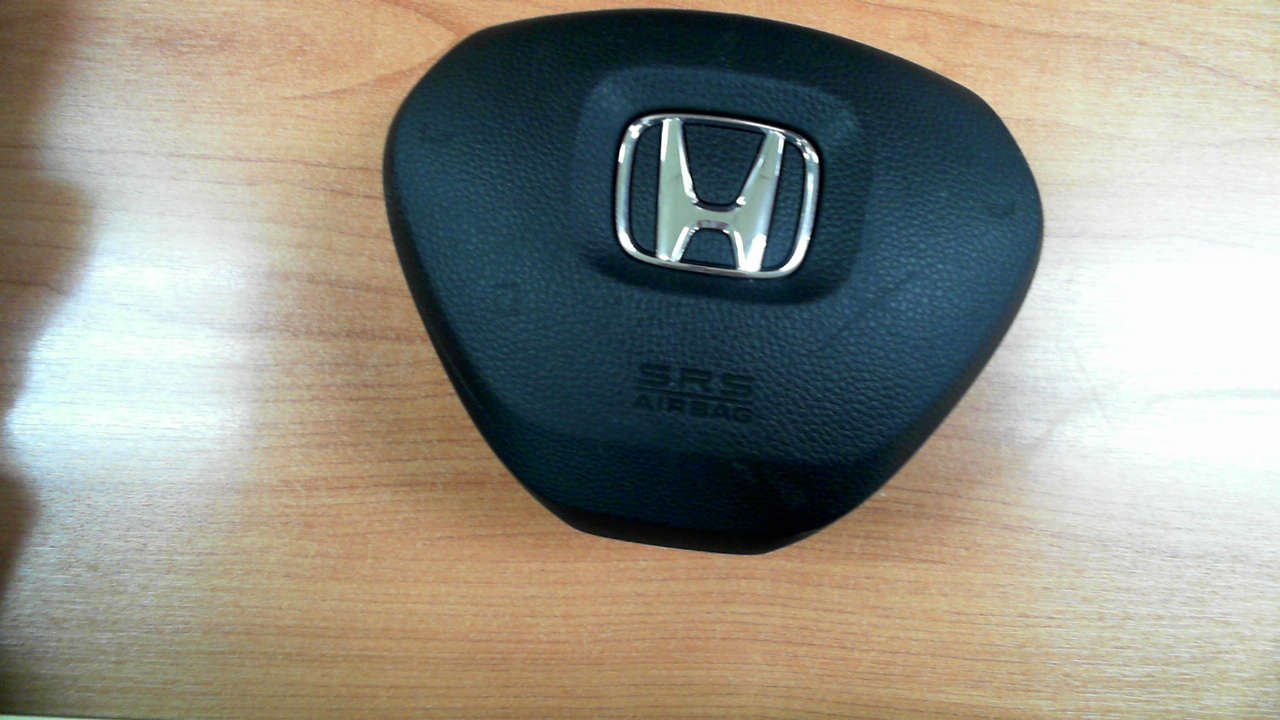Airbag: (380, 7, 1046, 557)
Honda: (615, 113, 820, 279)
